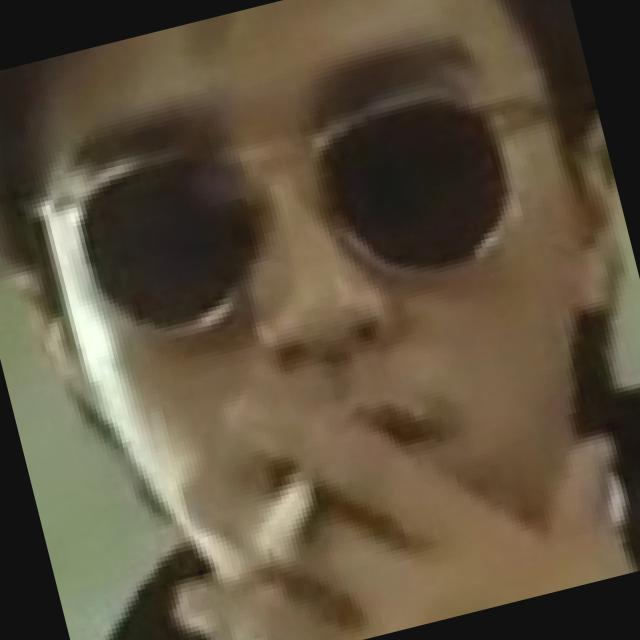cigarette: (220, 438, 355, 584)
